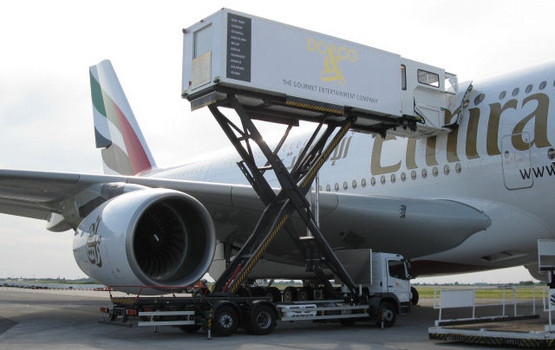Catering truck: (167, 7, 465, 337)
